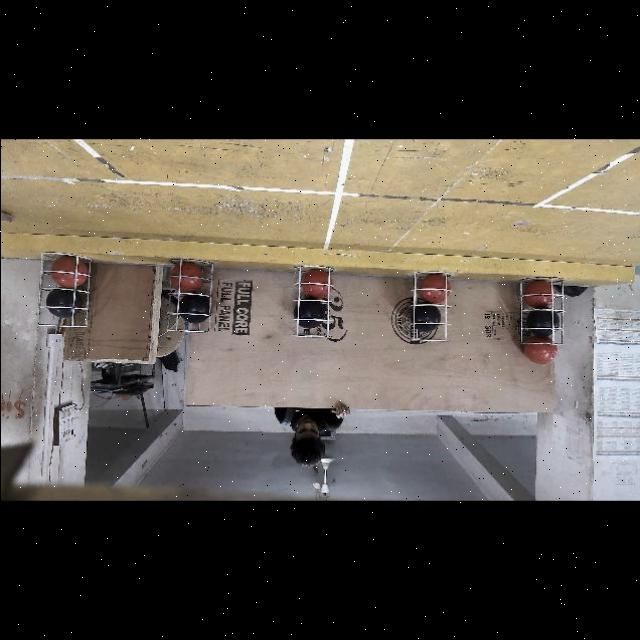P: (292, 296, 326, 328), (523, 306, 559, 336), (178, 290, 210, 322), (46, 286, 80, 316), (410, 300, 440, 332)
R: (46, 253, 88, 287), (169, 260, 203, 292), (418, 271, 448, 303), (301, 266, 331, 298), (522, 335, 556, 363), (523, 278, 555, 306)
S: (38, 250, 96, 332), (161, 252, 215, 338), (514, 276, 566, 350), (289, 265, 333, 339), (407, 268, 449, 344)
